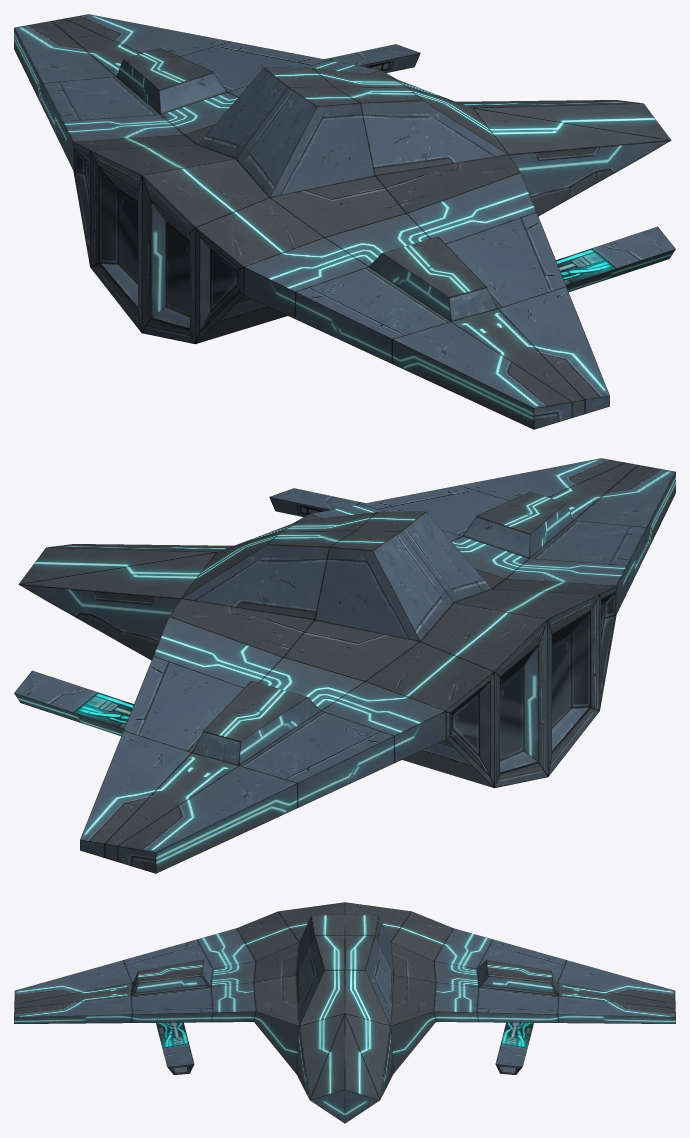
File: StarfighterTest.glb
The picture shows the model from 3 angles, top to bottom: view 1: azimuth 30°, elevation 25°; view 2: azimuth 150°, elevation 25°; view 3: azimuth 270°, elevation 25°; orthographic projection. The views are drawn at different scales.
Visible parts, largest first — view 1: Starfighter_Model; view 2: Starfighter_Model; view 3: Starfighter_Model.
Part boxes in pixels (box(x1,y1,x2,y2)): Starfighter_Model: box(14, 14, 675, 429); Starfighter_Model: box(14, 458, 675, 873); Starfighter_Model: box(14, 902, 675, 1123).
Bounding box in the file's own units: 4.9 × 1.96 × 8.81.
1 material, 1 textured.
